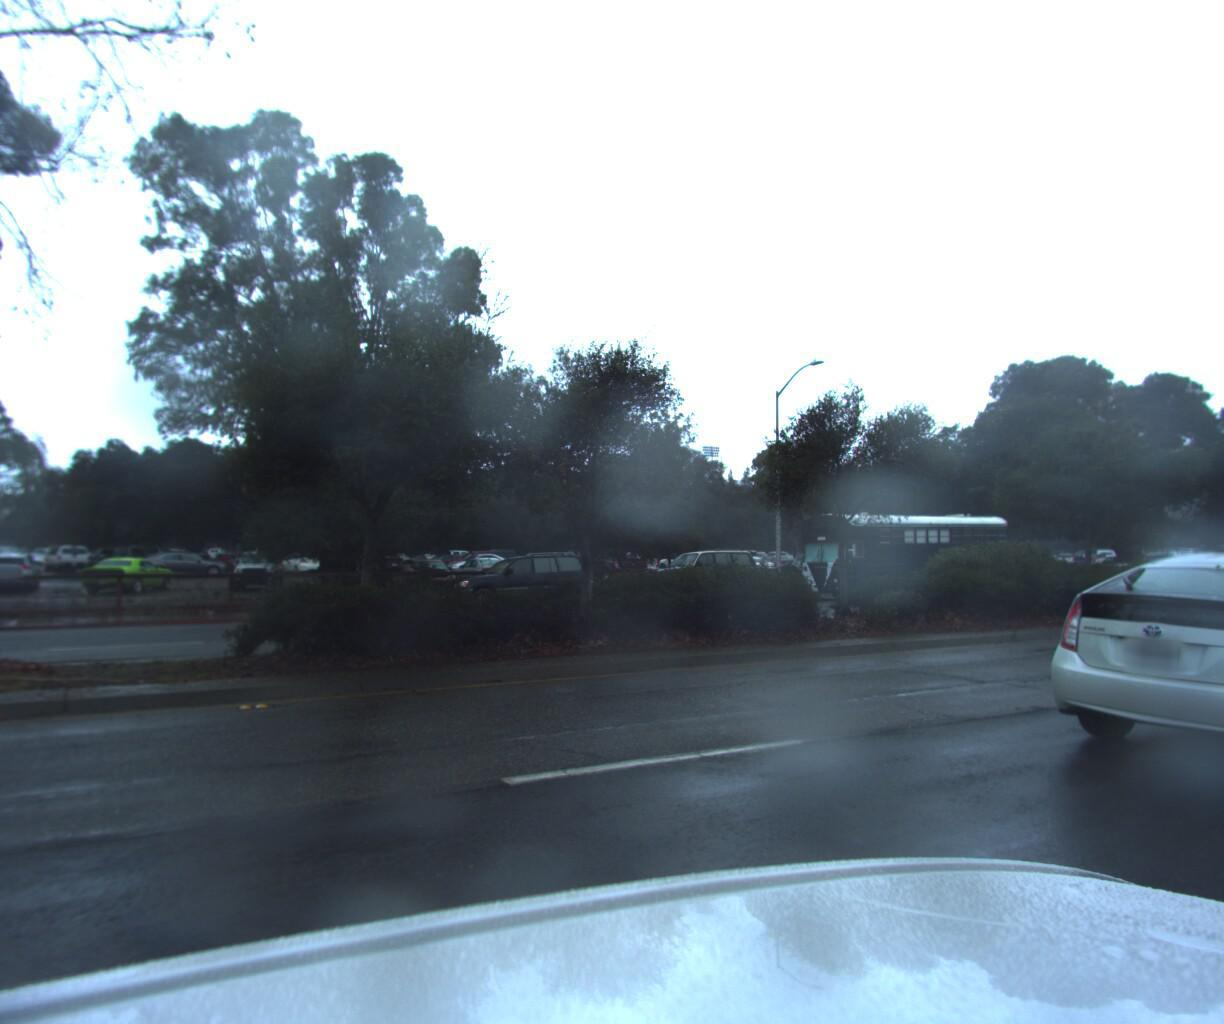bus: (781, 507, 1015, 601)
car: (1020, 542, 1224, 820), (430, 548, 599, 617), (625, 545, 766, 606), (75, 554, 182, 592), (558, 544, 652, 586), (1088, 546, 1176, 573), (703, 554, 779, 585), (450, 552, 516, 585), (231, 550, 285, 590)
